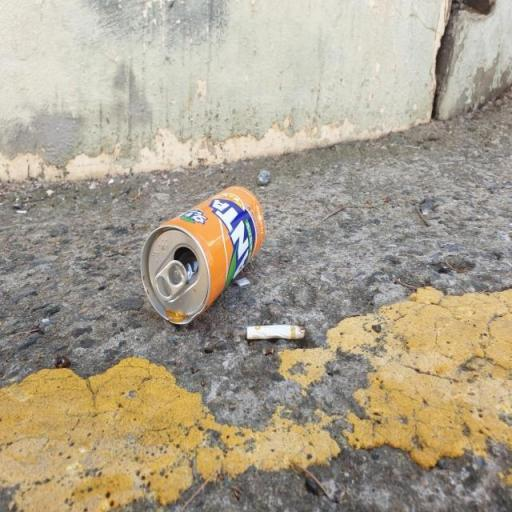metal: (126, 171, 285, 340)
